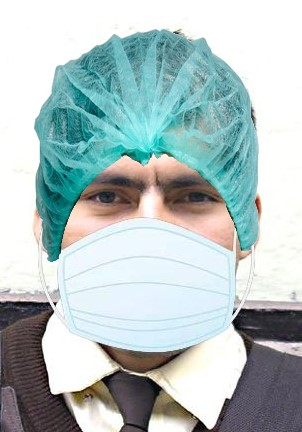with_mask_and_cap: (36, 29, 261, 352)
